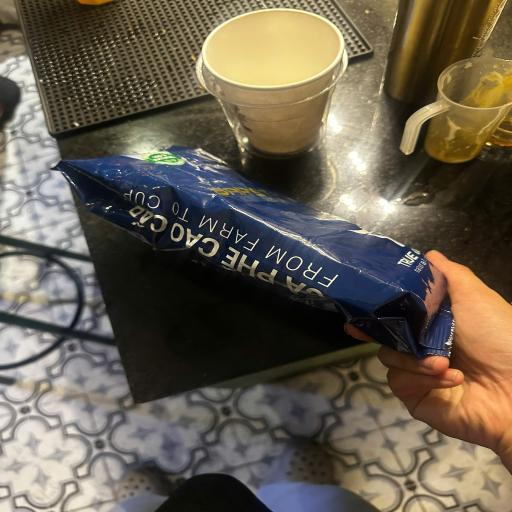cafe_hat: (56, 146, 453, 357)
